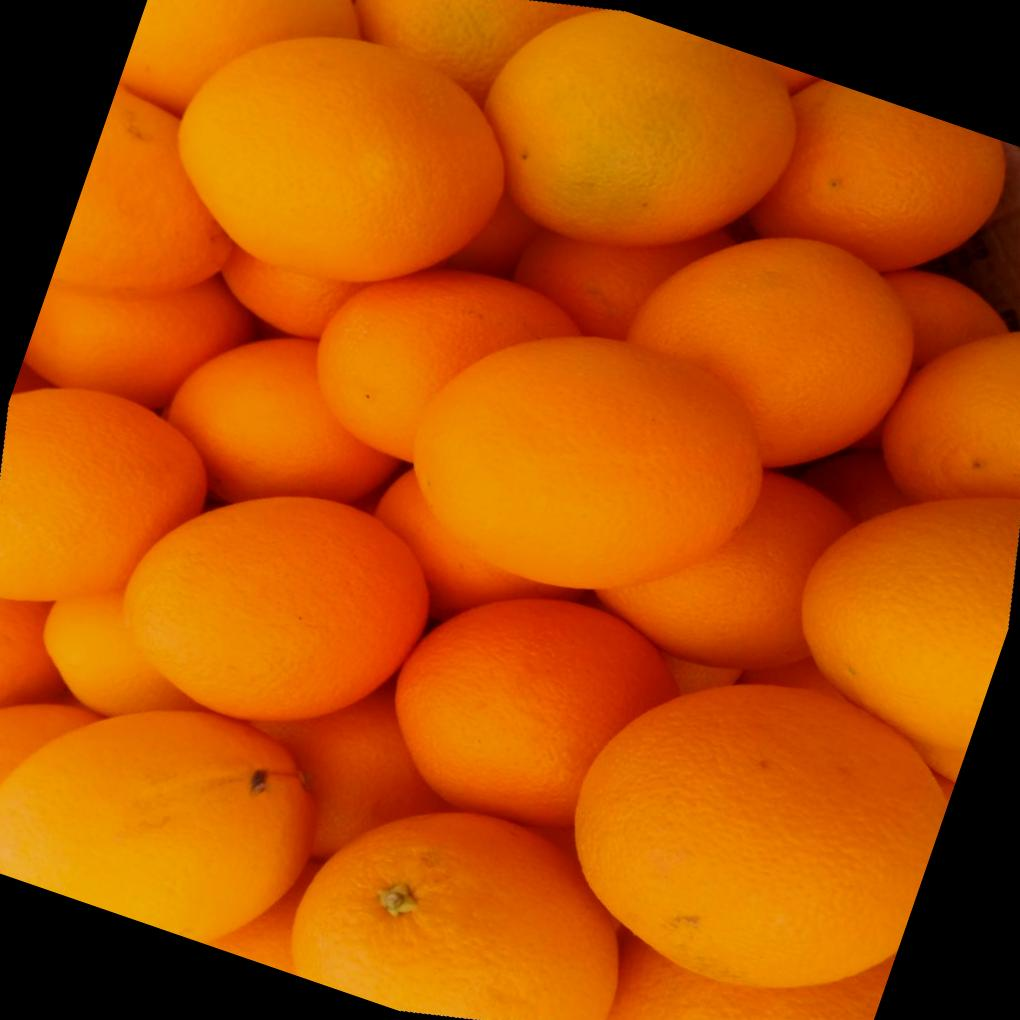FreshGuava: (314, 0, 1008, 615), (576, 679, 950, 953)
